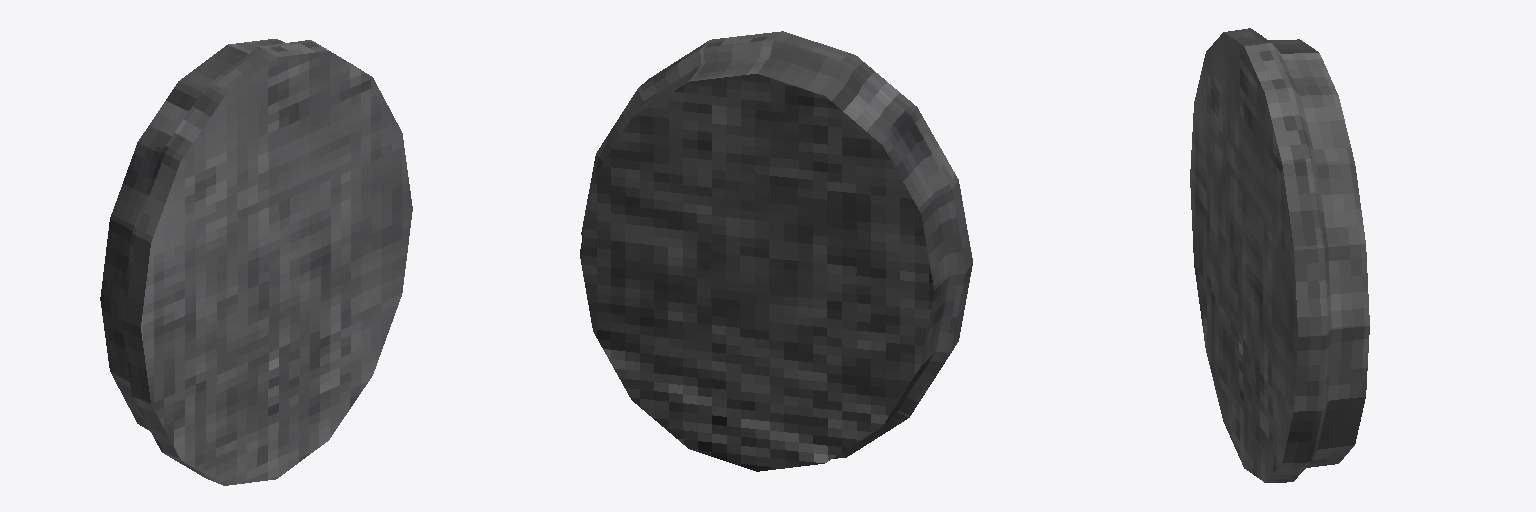
3 views of the same model, side by side, from view 1: azimuth 30°, elevation 25°; view 2: azimuth 150°, elevation 25°; view 3: azimuth 270°, elevation 25° (orthographic).
Parts seen in each view (by area): view 1: LlantaIzq5; view 2: LlantaIzq5; view 3: LlantaIzq5.
Part boxes in pixels (x1,y1,x2,y2): LlantaIzq5: (100, 39, 412, 485); LlantaIzq5: (580, 31, 972, 471); LlantaIzq5: (1190, 28, 1369, 482).
Size of the model in its own units: 0.2179 by 0.2666 by 0.1023.
Materials: 1 (1 with a texture image).